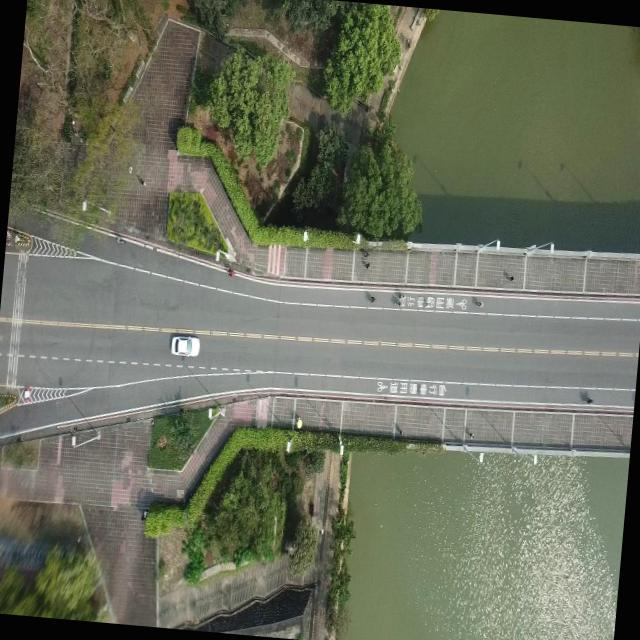bike: (577, 388, 591, 402)
car: (170, 332, 200, 358)
